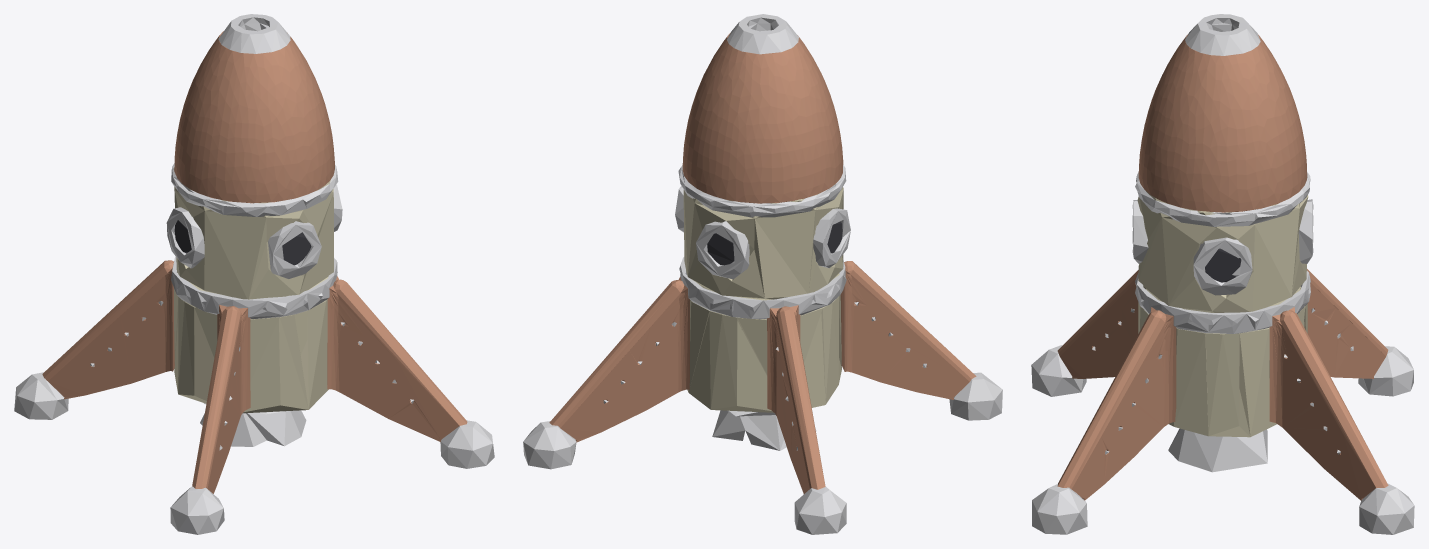
The model's file is rocket_d1.glb.
The picture shows the model from 3 angles, left to right: view 1: azimuth 30°, elevation 25°; view 2: azimuth 150°, elevation 25°; view 3: azimuth 270°, elevation 25°; orthographic projection. The views are drawn at different scales.
Visible parts, largest first — view 1: Oxide, OxideNose, Khaki, KhakiA2, NickelA1, NickelA2, NickelCap, NickelNose, Blackout; view 2: Oxide, OxideNose, Khaki, KhakiA2, NickelA1, NickelA2, NickelNose, NickelCap, Blackout; view 3: Oxide, OxideNose, NickelA1, KhakiA2, Khaki, NickelA2, NickelCap, NickelNose, Blackout.
Boxes of the visible parts, x1=… form: Oxide: x1=42, y1=260, x2=467, y2=493; OxideNose: x1=174, y1=31, x2=334, y2=203; Khaki: x1=174, y1=277, x2=328, y2=413; KhakiA2: x1=173, y1=168, x2=333, y2=299; NickelA1: x1=14, y1=256, x2=494, y2=534; NickelA2: x1=166, y1=163, x2=342, y2=278; NickelCap: x1=200, y1=403, x2=306, y2=446; NickelNose: x1=218, y1=14, x2=290, y2=53; Blackout: x1=174, y1=220, x2=311, y2=265; Oxide: x1=549, y1=261, x2=976, y2=493; OxideNose: x1=682, y1=33, x2=843, y2=203; Khaki: x1=687, y1=273, x2=841, y2=412; KhakiA2: x1=683, y1=184, x2=843, y2=299; NickelA1: x1=523, y1=257, x2=1002, y2=534; NickelA2: x1=675, y1=165, x2=850, y2=279; NickelNose: x1=727, y1=14, x2=798, y2=54; NickelCap: x1=712, y1=410, x2=816, y2=450; Blackout: x1=707, y1=221, x2=842, y2=265; Oxide: x1=1057, y1=269, x2=1388, y2=500; OxideNose: x1=1138, y1=34, x2=1307, y2=212; NickelA1: x1=1031, y1=271, x2=1414, y2=534; KhakiA2: x1=1137, y1=191, x2=1308, y2=312; Khaki: x1=1138, y1=286, x2=1307, y2=437; NickelA2: x1=1132, y1=171, x2=1313, y2=295; NickelCap: x1=1168, y1=428, x2=1267, y2=472; NickelNose: x1=1185, y1=14, x2=1260, y2=55; Blackout: x1=1205, y1=248, x2=1241, y2=282.
Size of the model in its own units: 0.1819 by 0.225 by 0.1819.
